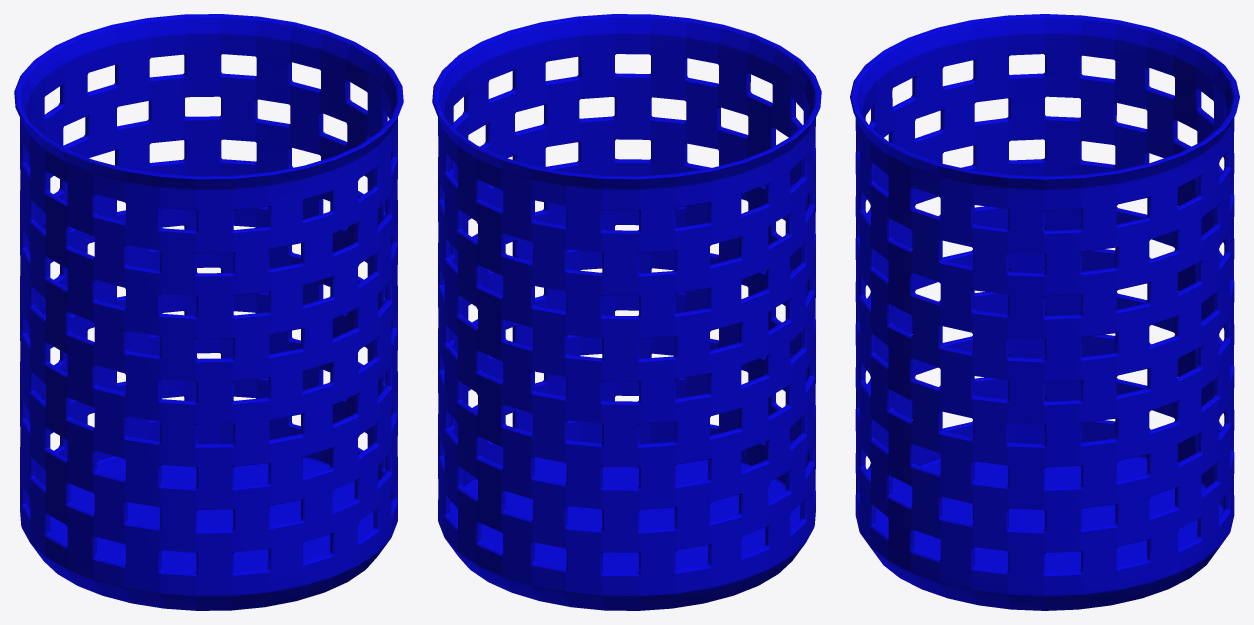
File: Laundry.fbx
3 views of the same model, side by side, from view 1: azimuth 30°, elevation 25°; view 2: azimuth 150°, elevation 25°; view 3: azimuth 270°, elevation 25° (orthographic).
Visible parts, largest first — view 1: laundry; view 2: laundry; view 3: laundry.
Boxes of the visible parts, bbox=[...] form: laundry: bbox=[14, 14, 403, 610]; laundry: bbox=[432, 14, 821, 610]; laundry: bbox=[850, 14, 1239, 610].
Bounding box in the file's own units: 0.5597 × 0.7003 × 0.5597.
